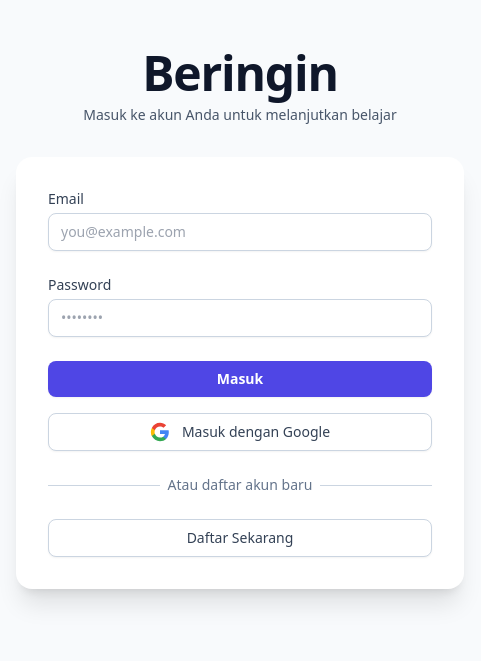
Test: LoginPage › shows error message on failed login
This screenshot has width=481, height=661.
Type "user@example.com" into the field labelled "Email".
click(240, 232); type("user@example.com")  # box [48,213,432,251]
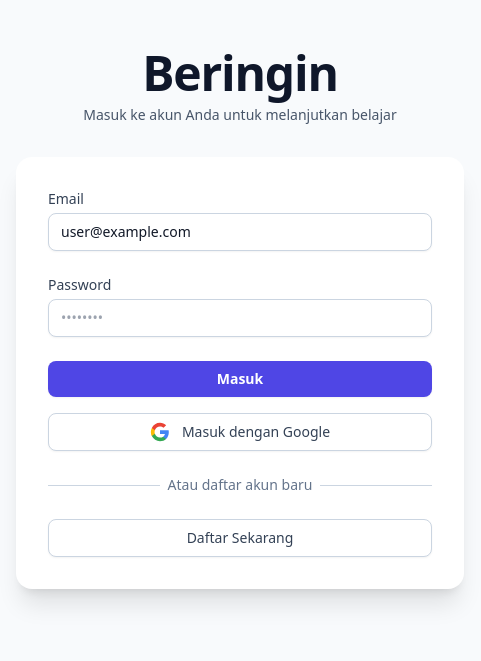
Type "wrong-password" into the password field labelled "Password".
click(240, 318); type("wrong-password")  # box [48,299,432,337]
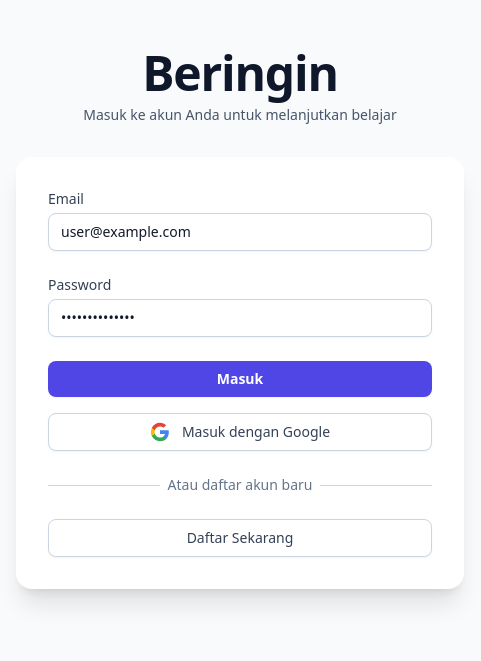
Click the button "Masuk".
click(240, 379)  # box [48,361,432,397]
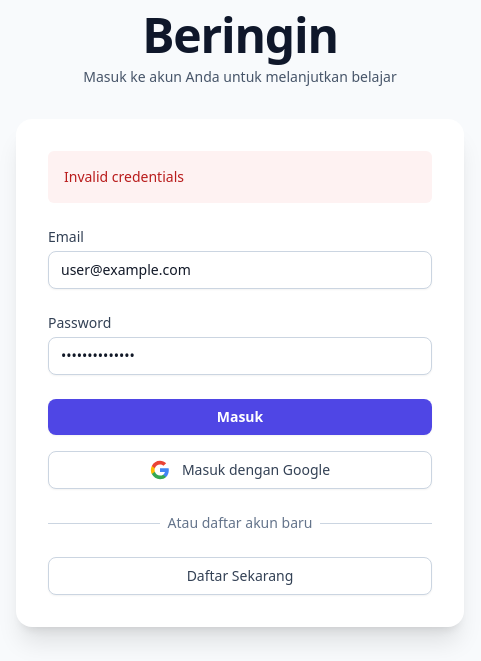
Check: the text "Invalid credentials" is shown, box [48,151,432,203]
